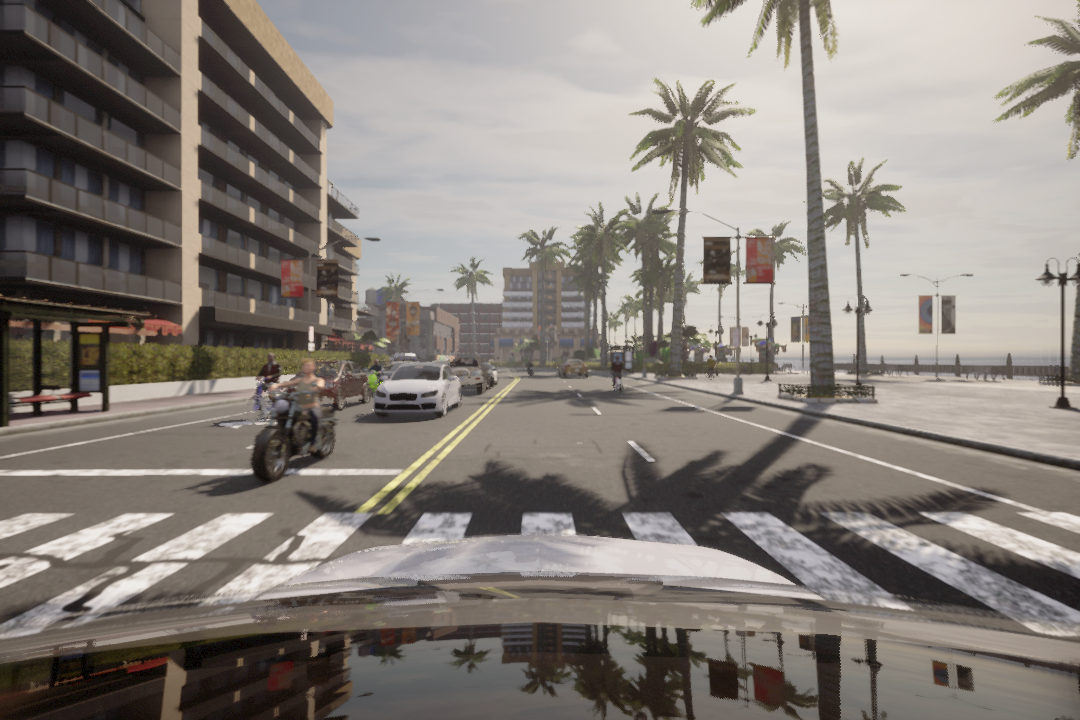walkside: (11, 502, 1080, 644)
